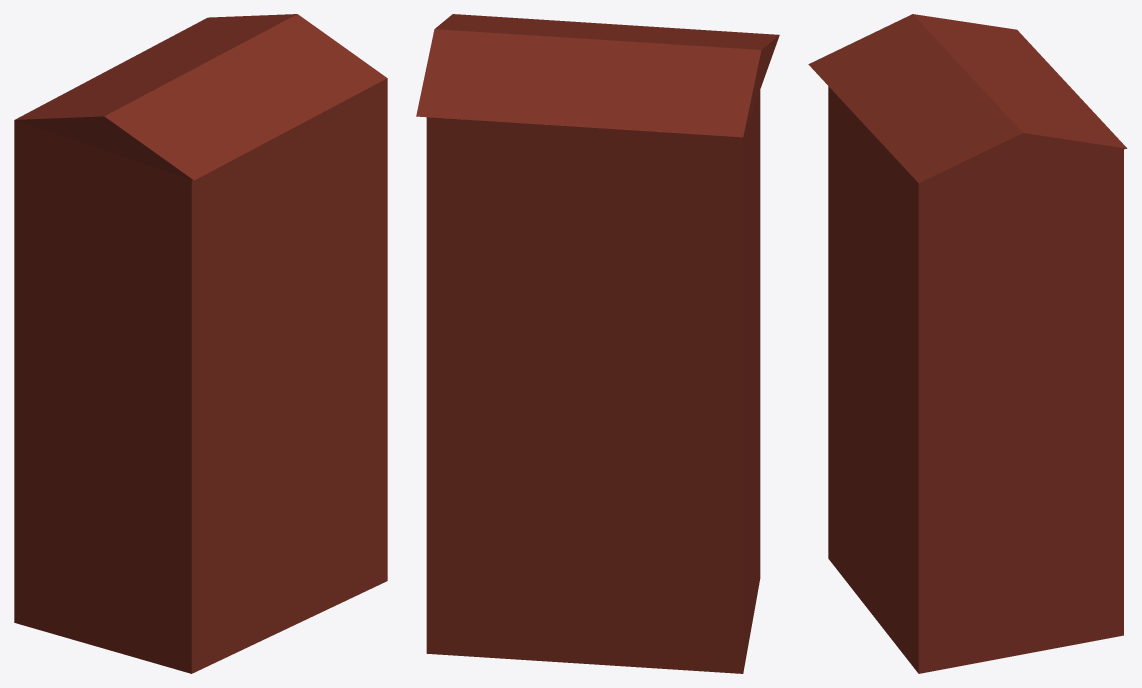
The model's file is near-15-27363-14881.4aabf8f5.glb.
The picture shows the model from 3 angles, left to right: view 1: azimuth 30°, elevation 25°; view 2: azimuth 150°, elevation 25°; view 3: azimuth 270°, elevation 25°; orthographic projection. The views are drawn at different scales.
Bounding box in the file's own units: 13.1 × 20.83 × 11.51.
